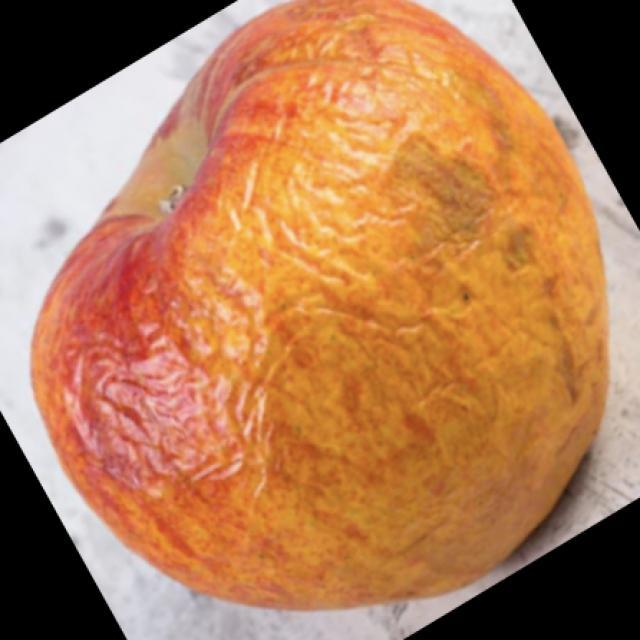Rotten: (67, 8, 590, 602)
